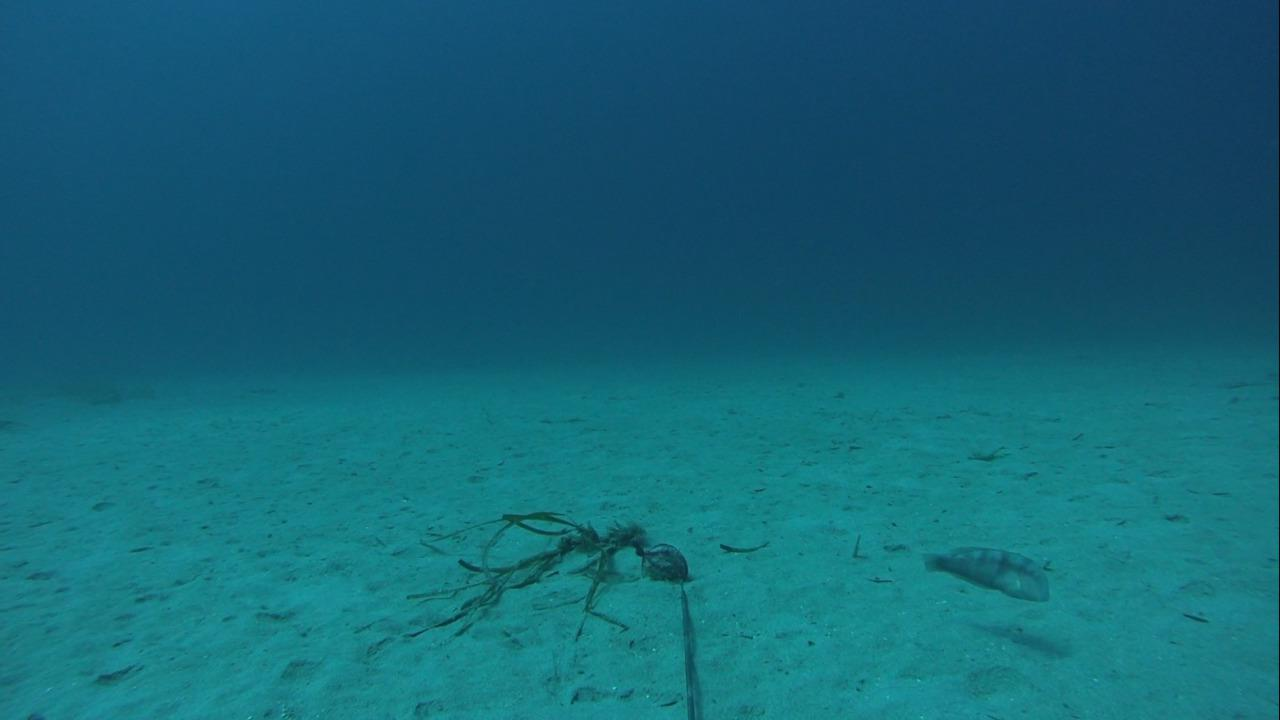raor: (917, 542, 1054, 607)
